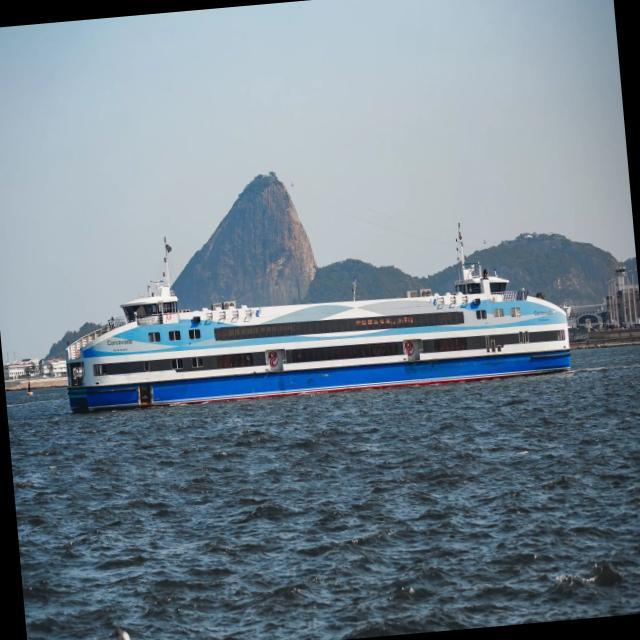Passenger: (65, 223, 570, 412)
